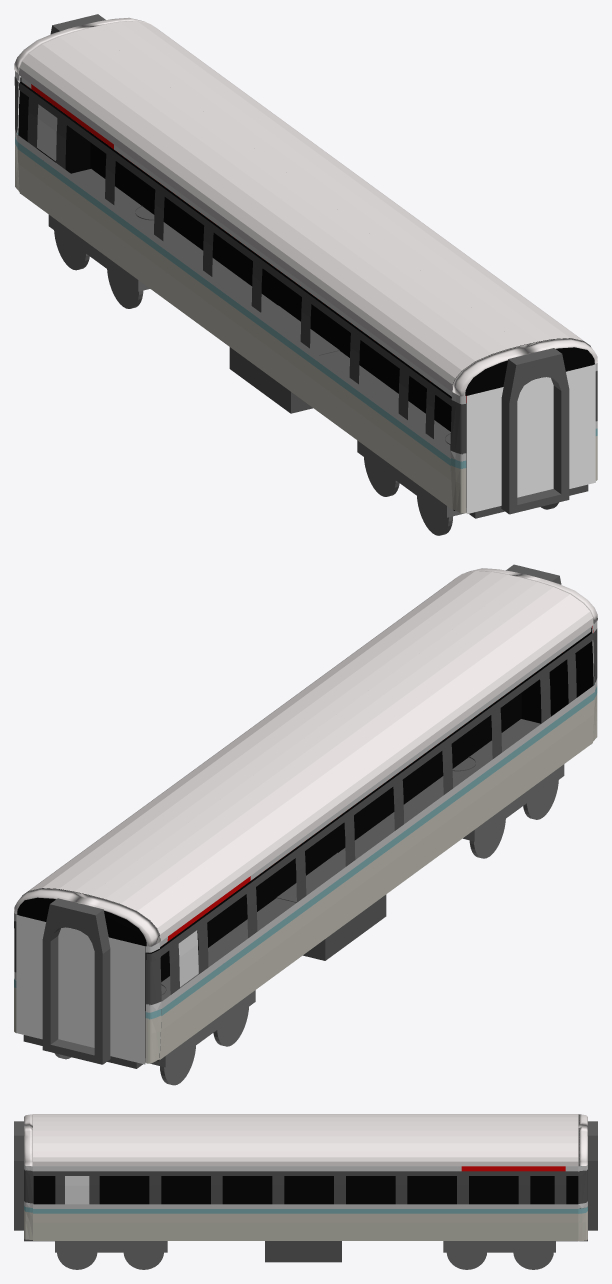
Rendered from br-mk2-tsot-scr.dae.
3 views of the same model, one above another, from view 1: azimuth 30°, elevation 25°; view 2: azimuth 150°, elevation 25°; view 3: azimuth 270°, elevation 25° (orthographic). The views are drawn at different scales.
Visible parts, largest first — view 1: Suzanne_001, Plane_031, Plane_100, Plane_009, Tube_002, Plane_002, Plane_088, Plane_029, Plane_030, Suzanne, Cube, Plane_117 (+10 smaller); view 2: Suzanne_001, Plane_031, Plane_001, Plane_009, Tube_003, Plane_002, Plane_088, Plane_029, Plane_030, Suzanne_006, Cube, Plane (+10 smaller); view 3: Suzanne_001, Plane_007, Plane_009, Plane_006, Plane_004, Plane_005, Plane_022, Cube, Cube_042, Cube_002, Tube_003, Tube_002 (+19 smaller).
Boxes of the visible parts, <box> form: Suzanne_001: <box>19,21,590,391</box>; Plane_031: <box>18,149,452,509</box>; Plane_100: <box>466,364,595,513</box>; Plane_009: <box>90,132,451,431</box>; Tube_002: <box>501,348,569,514</box>; Plane_002: <box>71,169,450,450</box>; Plane_088: <box>19,82,452,406</box>; Plane_029: <box>17,135,450,458</box>; Plane_030: <box>17,142,450,465</box>; Suzanne: <box>452,338,597,396</box>; Cube: <box>229,305,339,413</box>; Plane_117: <box>21,77,451,396</box>; Suzanne_001: <box>22,571,593,941</box>; Plane_031: <box>159,699,594,1059</box>; Plane_001: <box>16,915,145,1064</box>; Plane_009: <box>158,683,521,981</box>; Tube_003: <box>42,898,110,1064</box>; Plane_002: <box>159,719,540,1057</box>; Plane_088: <box>160,633,593,956</box>; Plane_029: <box>161,685,594,1008</box>; Plane_030: <box>161,692,594,1015</box>; Suzanne_006: <box>14,888,160,946</box>; Cube: <box>276,852,386,960</box>; Plane: <box>521,628,593,723</box>; Suzanne_001: <box>33,1114,578,1166</box>; Plane_007: <box>33,1213,578,1240</box>; Plane_009: <box>33,1176,580,1208</box>; Plane_006: <box>33,1166,578,1171</box>; Plane_004: <box>33,1171,578,1175</box>; Plane_005: <box>33,1209,578,1213</box>; Plane_022: <box>33,1204,578,1208</box>; Cube: <box>265,1241,341,1262</box>; Cube_042: <box>55,1241,167,1252</box>; Cube_002: <box>443,1241,555,1252</box>; Tube_003: <box>587,1121,597,1230</box>; Tube_002: <box>14,1121,24,1230</box>.
Size of the model in its own units: 2.06 by 11.39 by 2.72.
